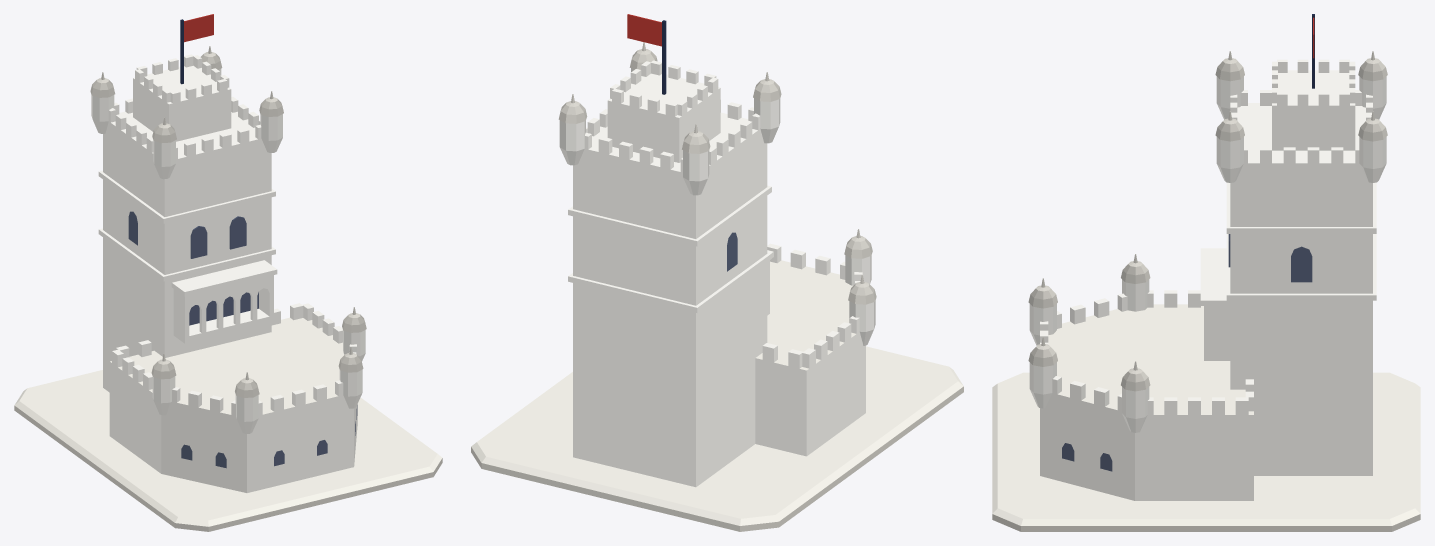
The model's file is lisbon.glb.
3 renders of one model, left to right at view 1: azimuth 30°, elevation 25°; view 2: azimuth 150°, elevation 25°; view 3: azimuth 270°, elevation 25°, orthographic. The views are drawn at different scales.
Parts seen in each view (by area): view 1: model; view 2: model; view 3: model.
Part boxes in pixels (bbox=[...]): model: bbox=[14, 14, 442, 531]; model: bbox=[471, 14, 963, 531]; model: bbox=[992, 14, 1420, 531].
Size of the model in its own units: 30 by 41 by 36.
